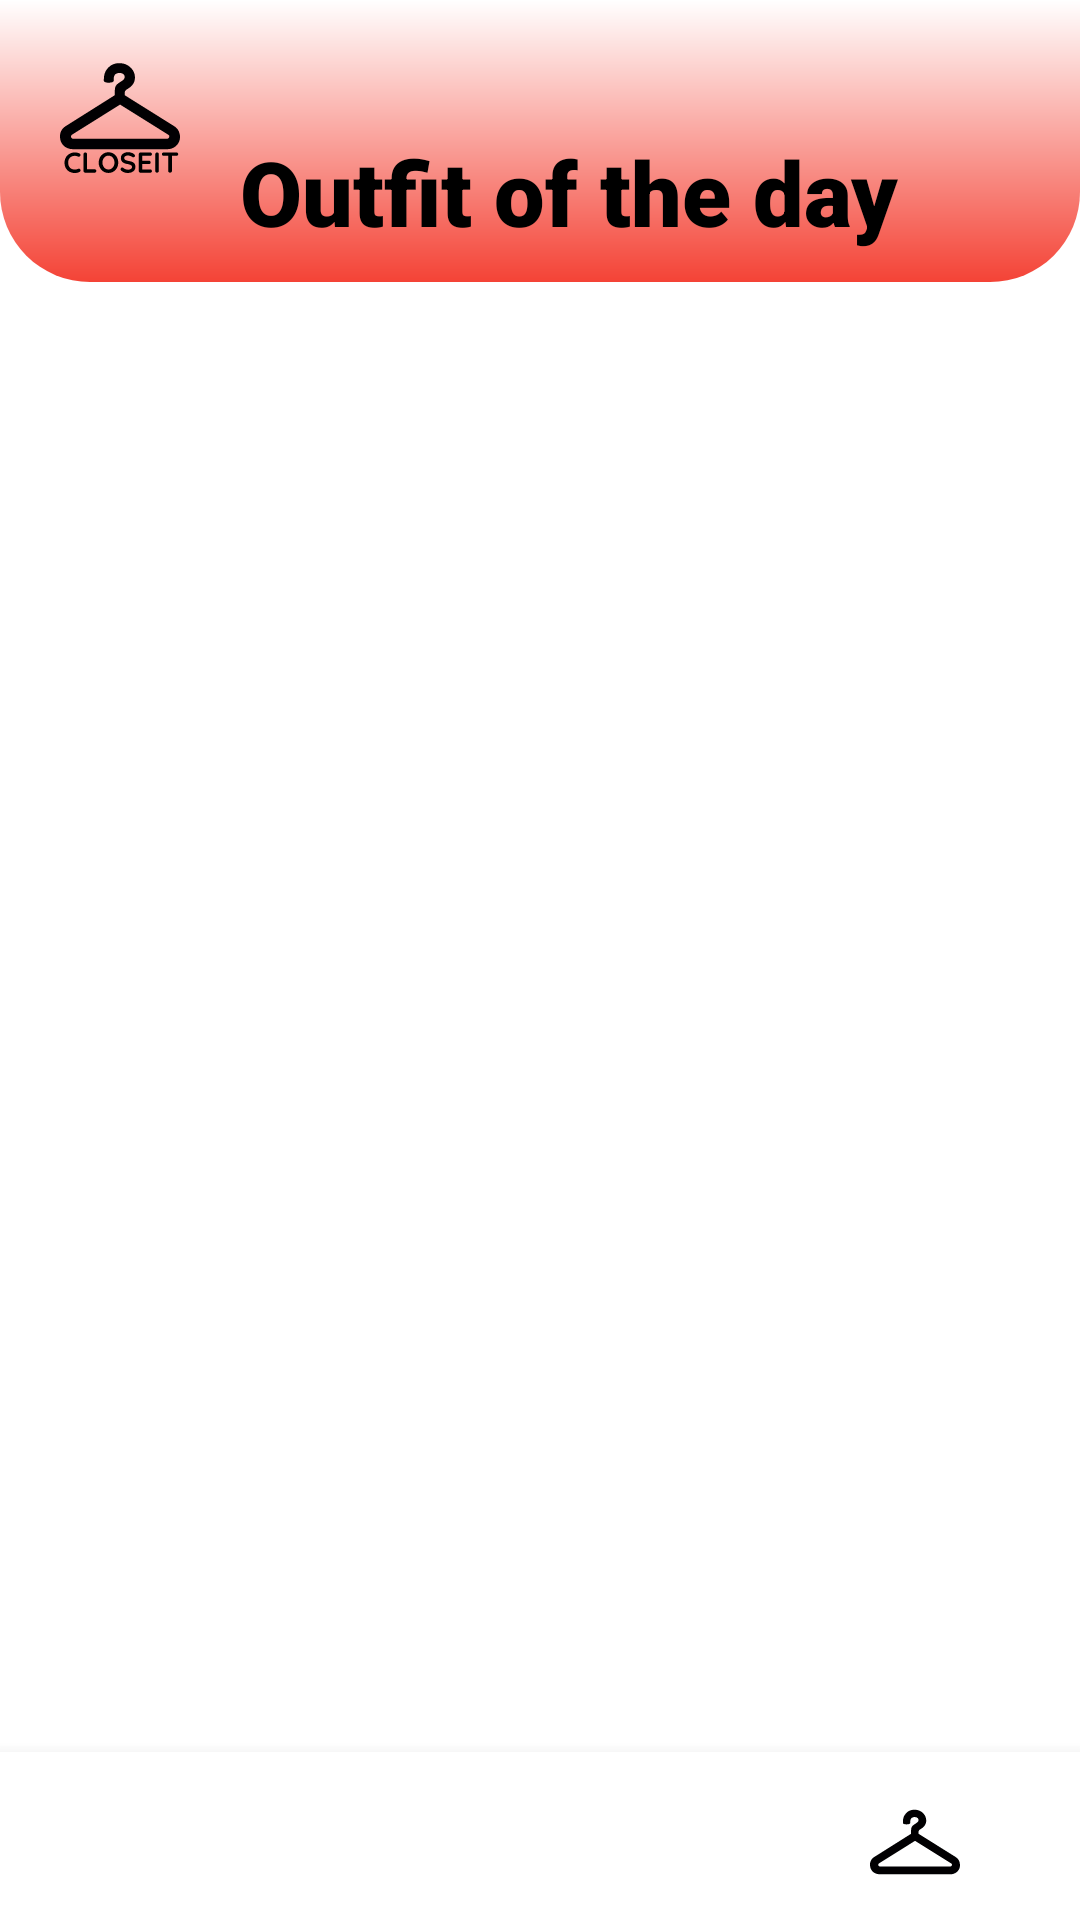

Screen size 1080px×1920px. Icon name, then its box in pixels as (x1, y1, x2, y2):
hanger: (870, 1809, 960, 1875)
